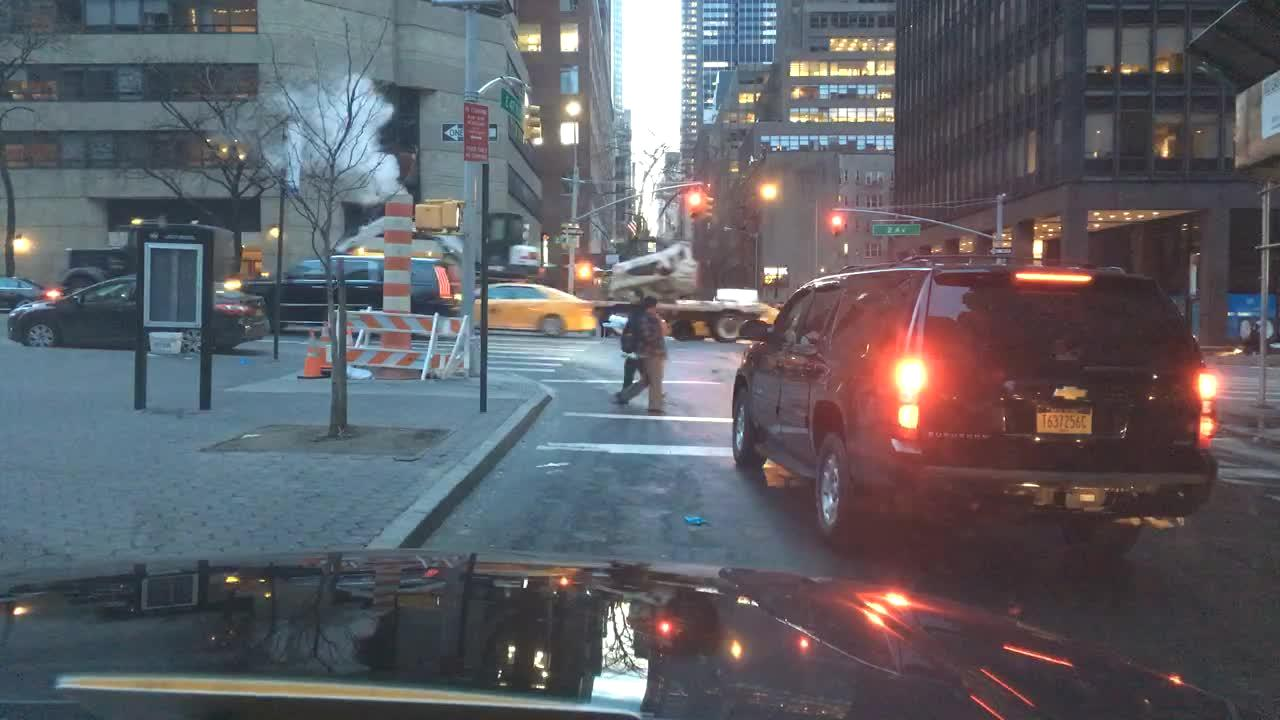chevrolet: (1045, 376, 1100, 408)
